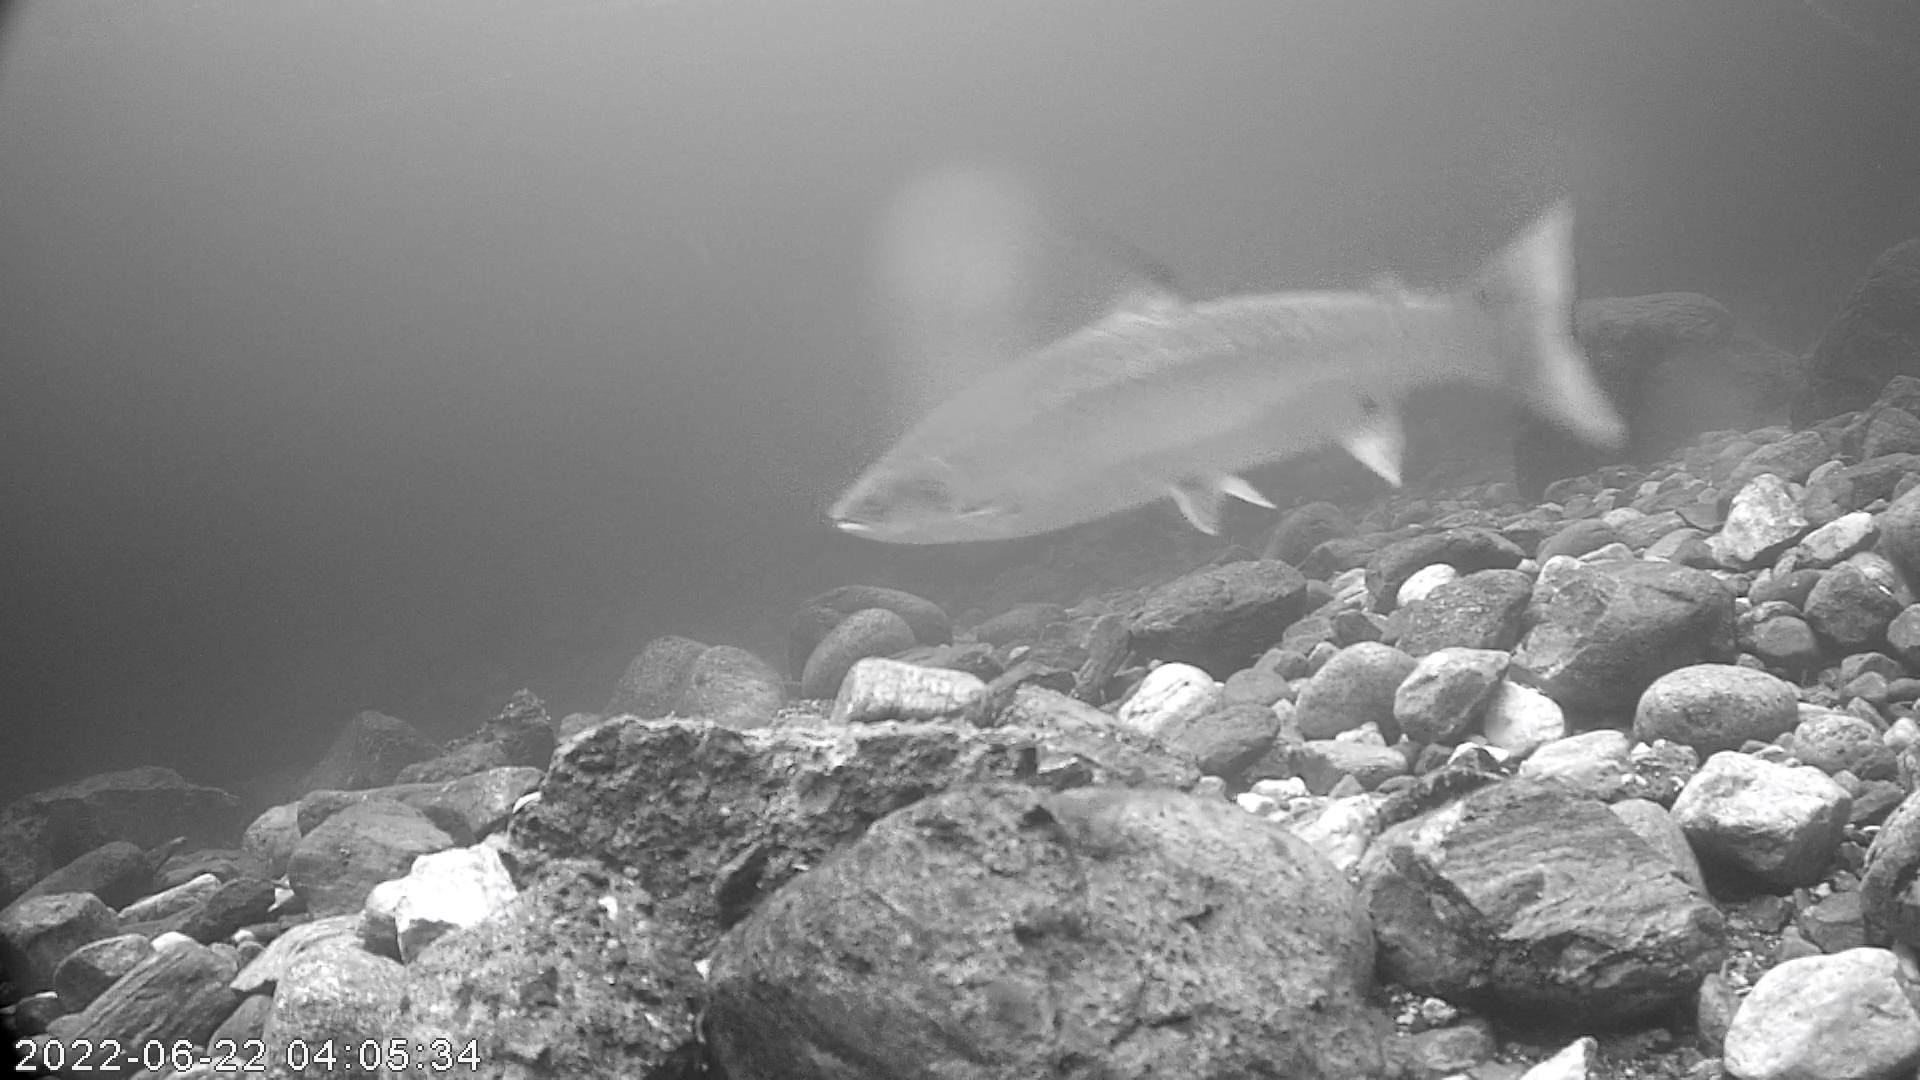salmon: (825, 191, 1629, 553)
